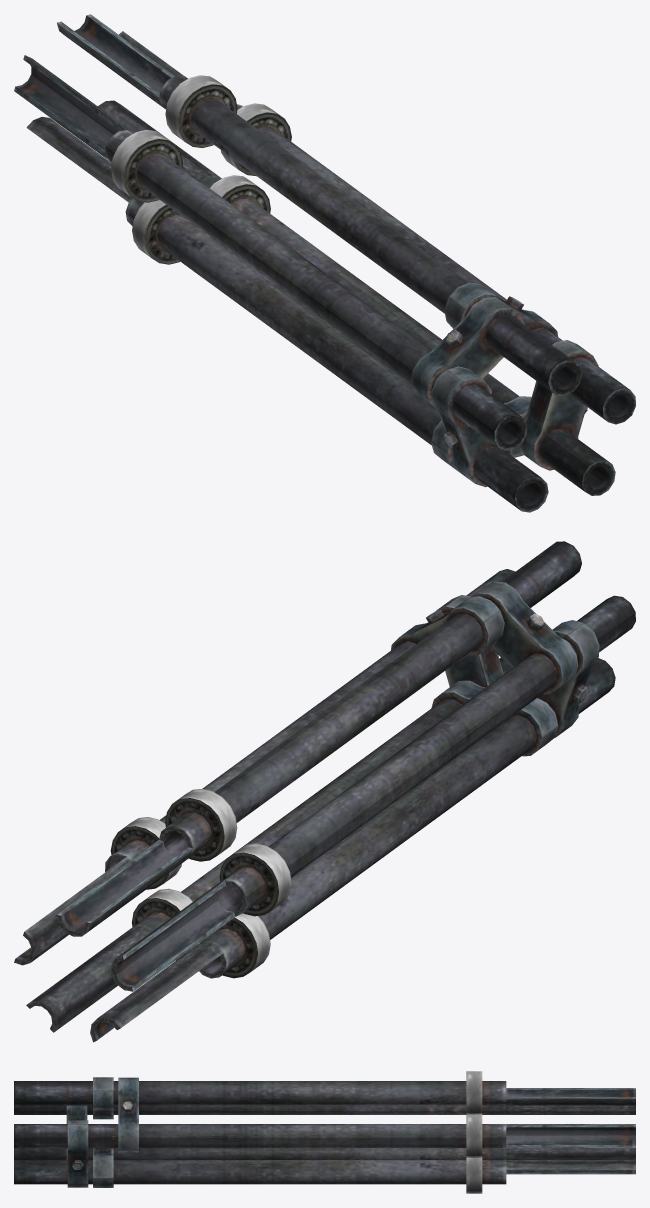
File: stvol5.obj
The picture shows the model from 3 angles, top to bottom: view 1: azimuth 30°, elevation 25°; view 2: azimuth 150°, elevation 25°; view 3: azimuth 270°, elevation 25°; orthographic projection. The views are drawn at different scales.
Parts seen in each view (by area): view 1: wpn34_gatling; view 2: wpn34_gatling; view 3: wpn34_gatling.
Part boxes in pixels (x1=…): wpn34_gatling: x1=14, y1=14, x2=635, y2=512; wpn34_gatling: x1=14, y1=541, x2=635, y2=1042; wpn34_gatling: x1=14, y1=1071, x2=635, y2=1193.
Size of the model in its own units: 0.1798 by 0.1731 by 0.9088.
Materials: 1 (1 with a texture image).
